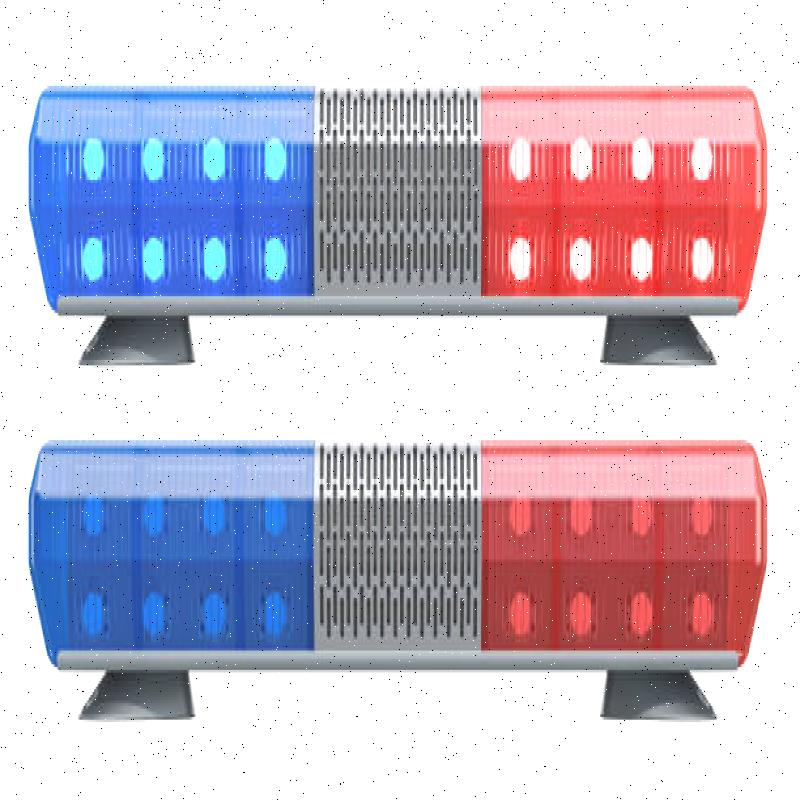AmbulanceSiren: (21, 418, 775, 719), (18, 52, 770, 346)
